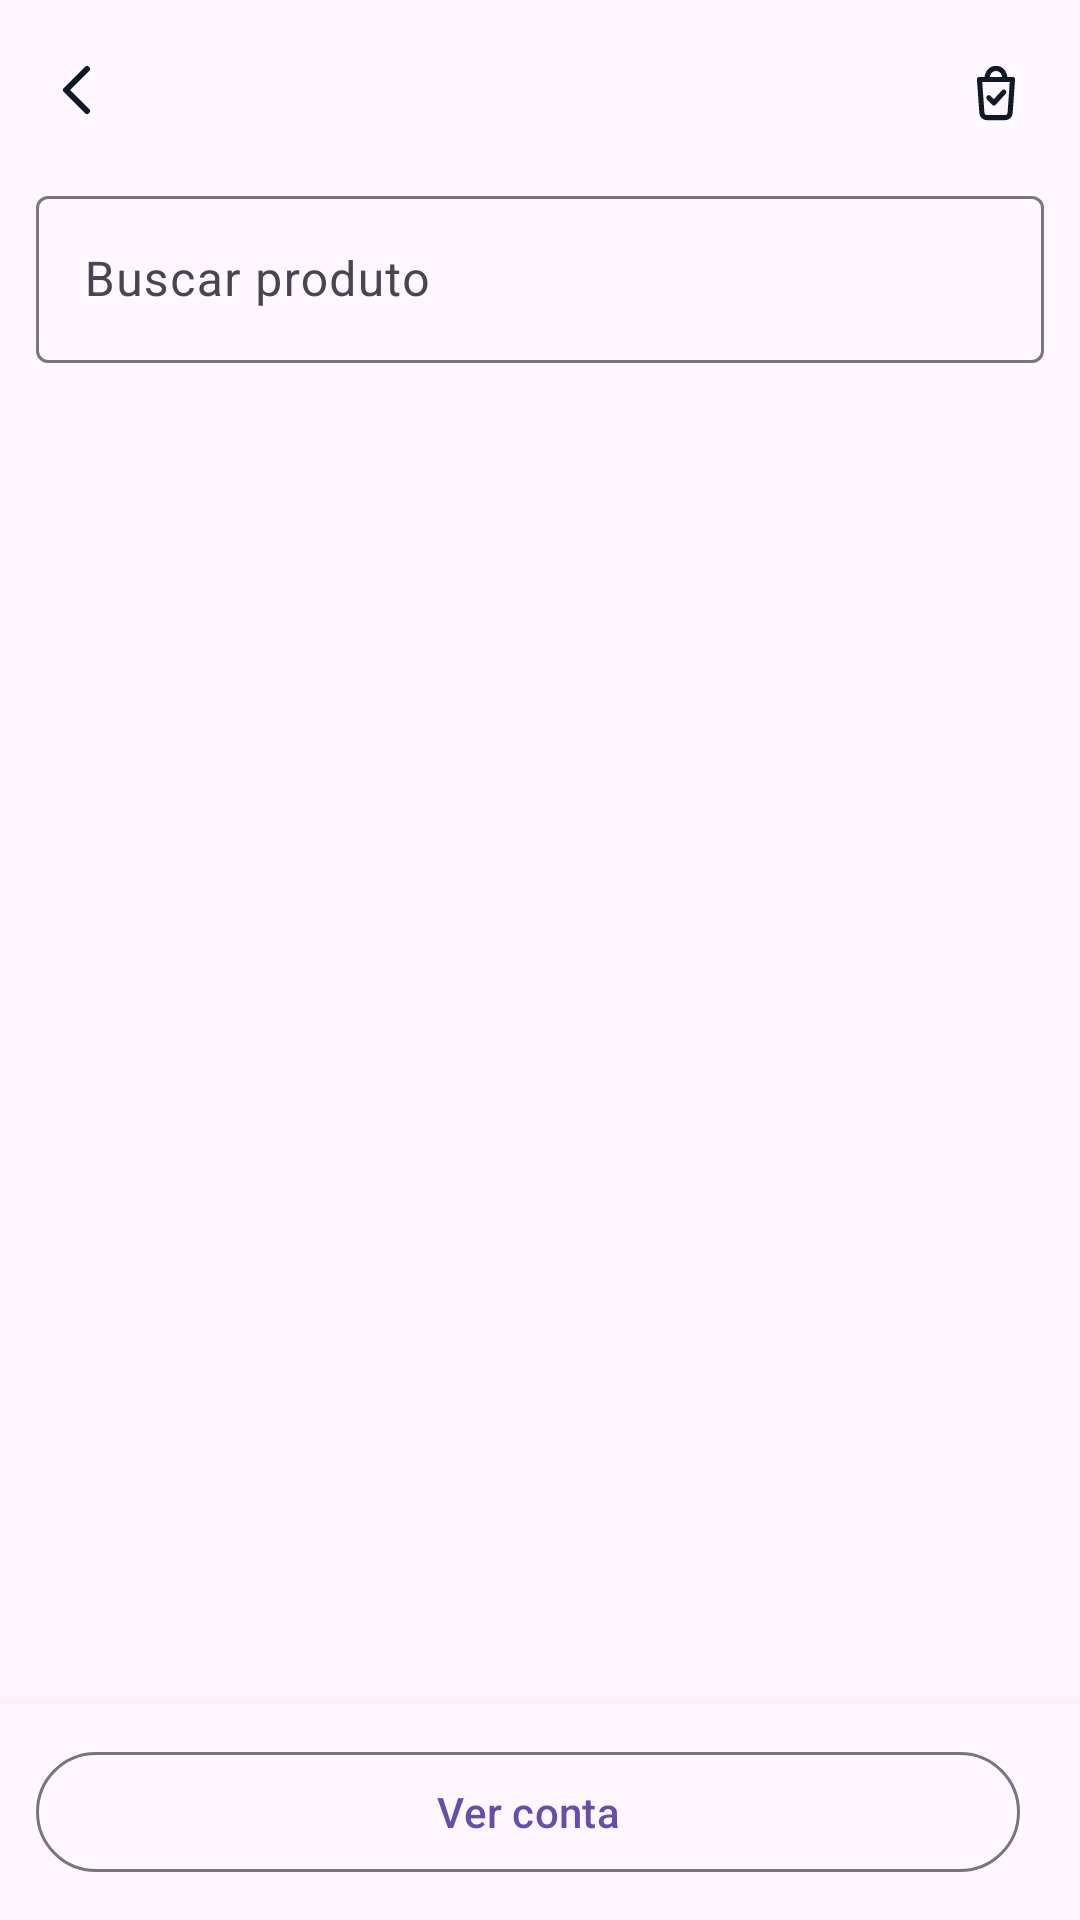

Icon click points for this 1080*1920 phone screenshot, format point (x, y):
Sacola: point (996, 93)
Voltar: point (76, 90)
